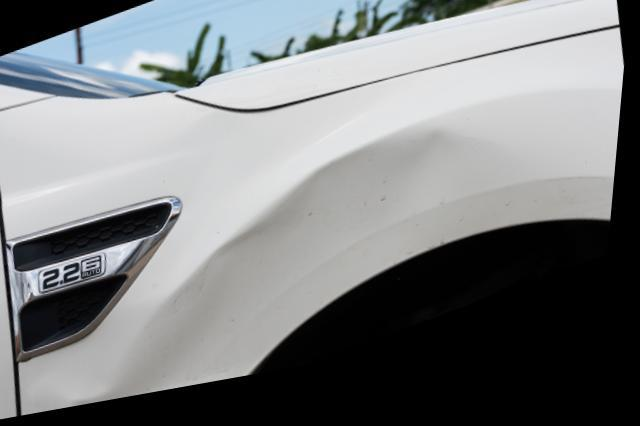dent: (79, 150, 504, 411)
